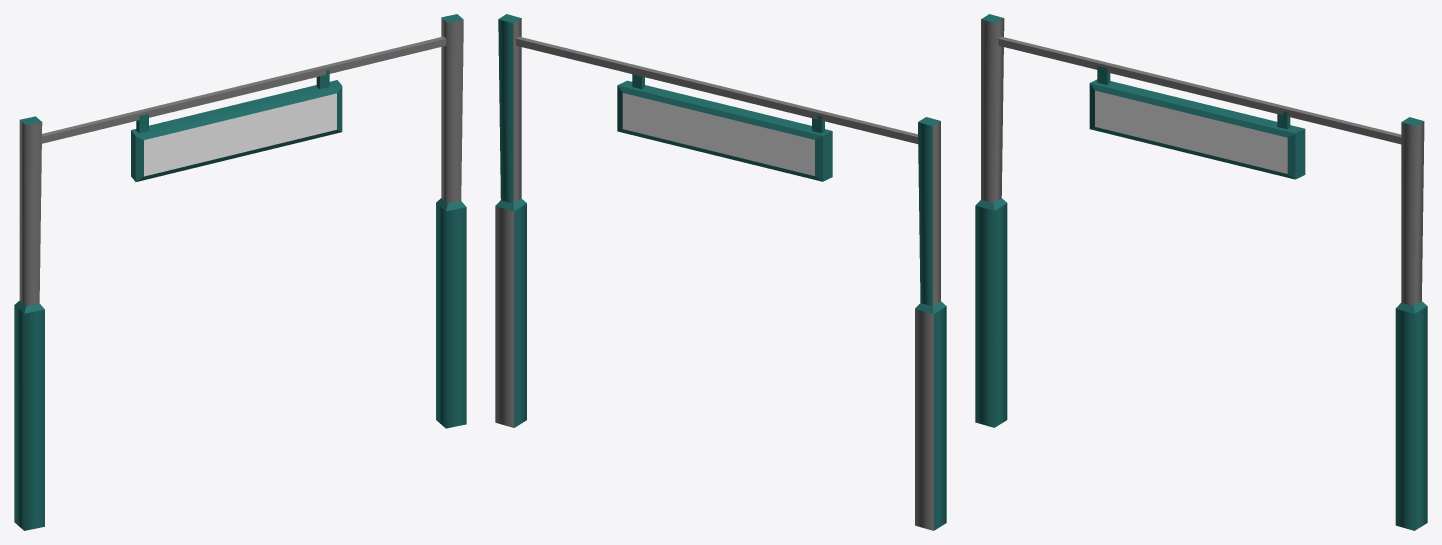
The model's file is SM_Stand1.fbx.
3 renders of one model, left to right at view 1: azimuth 30°, elevation 25°; view 2: azimuth 150°, elevation 25°; view 3: azimuth 330°, elevation 25°, orthographic.
Visible parts, largest first — view 1: SM_Stand1; view 2: SM_Stand1; view 3: SM_Stand1.
Part boxes in pixels (box(x1,y1,x2,y2)): SM_Stand1: box(14, 14, 466, 530); SM_Stand1: box(495, 14, 946, 530); SM_Stand1: box(975, 14, 1427, 530).
Size of the model in its own units: 879 by 766 by 44.2.
